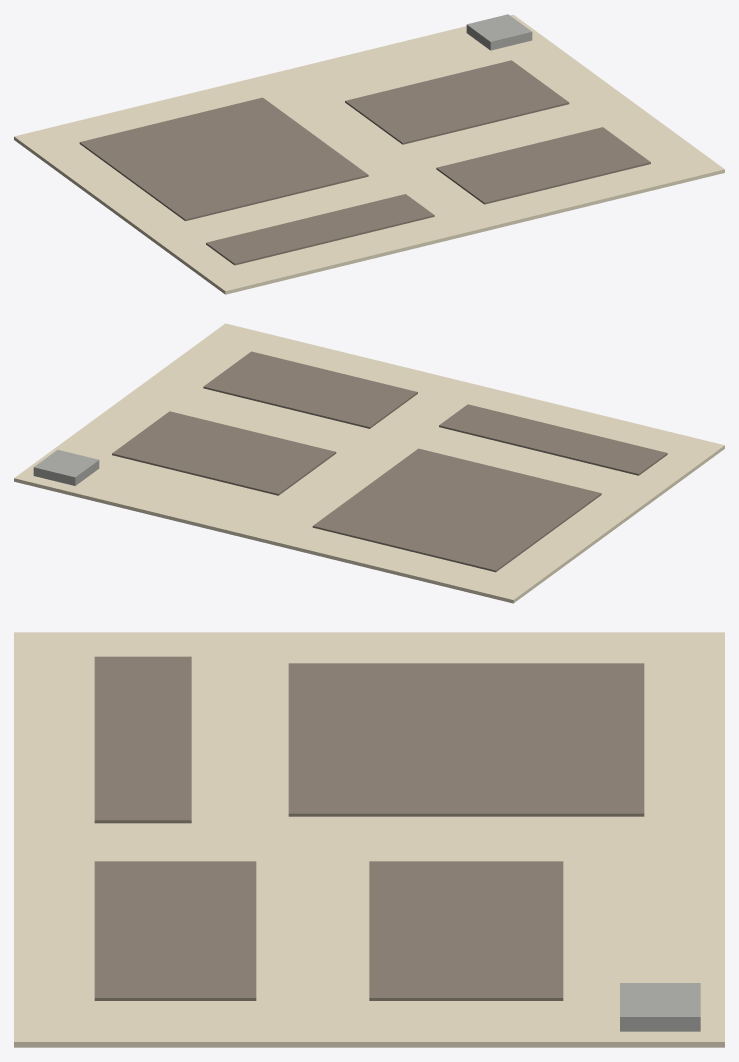
Rendered from prop-pattern-sheet-ft1.fbx.
3 renders of one model, top to bottom at view 1: azimuth 30°, elevation 25°; view 2: azimuth 150°, elevation 25°; view 3: azimuth 270°, elevation 25°, orthographic. The views are drawn at different scales.
Parts seen in each view (by area): view 1: prop-pattern-sheet-ft1; view 2: prop-pattern-sheet-ft1; view 3: prop-pattern-sheet-ft1.
Boxes of the visible parts, x1=… form: prop-pattern-sheet-ft1: x1=14, y1=14, x2=724, y2=294; prop-pattern-sheet-ft1: x1=14, y1=323, x2=724, y2=603; prop-pattern-sheet-ft1: x1=14, y1=632, x2=724, y2=1047.
Size of the model in its own units: 30 by 0.7 by 22.
